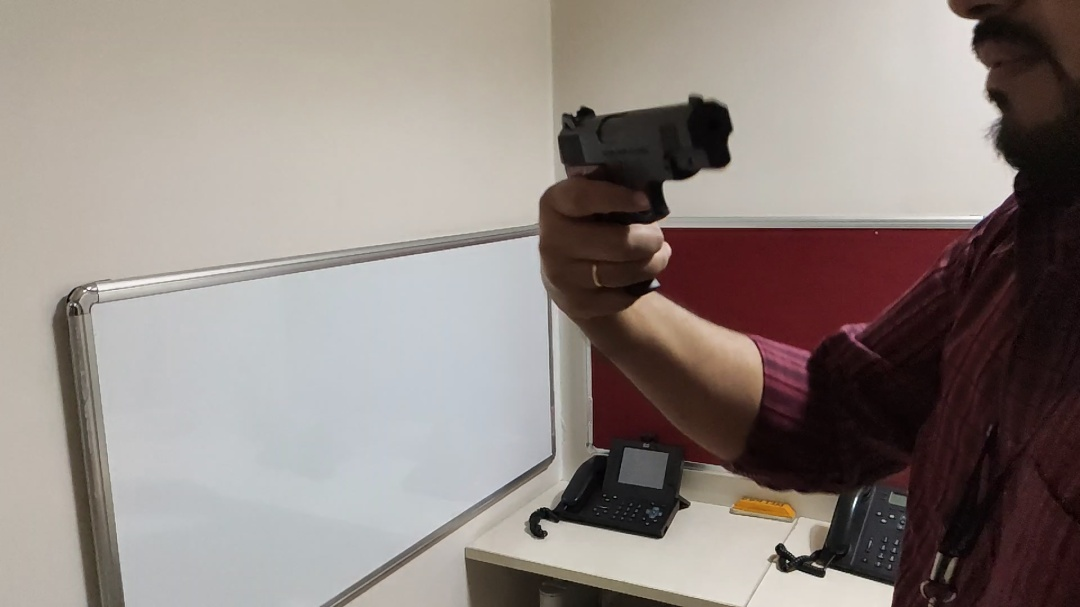gun: (536, 92, 764, 295)
